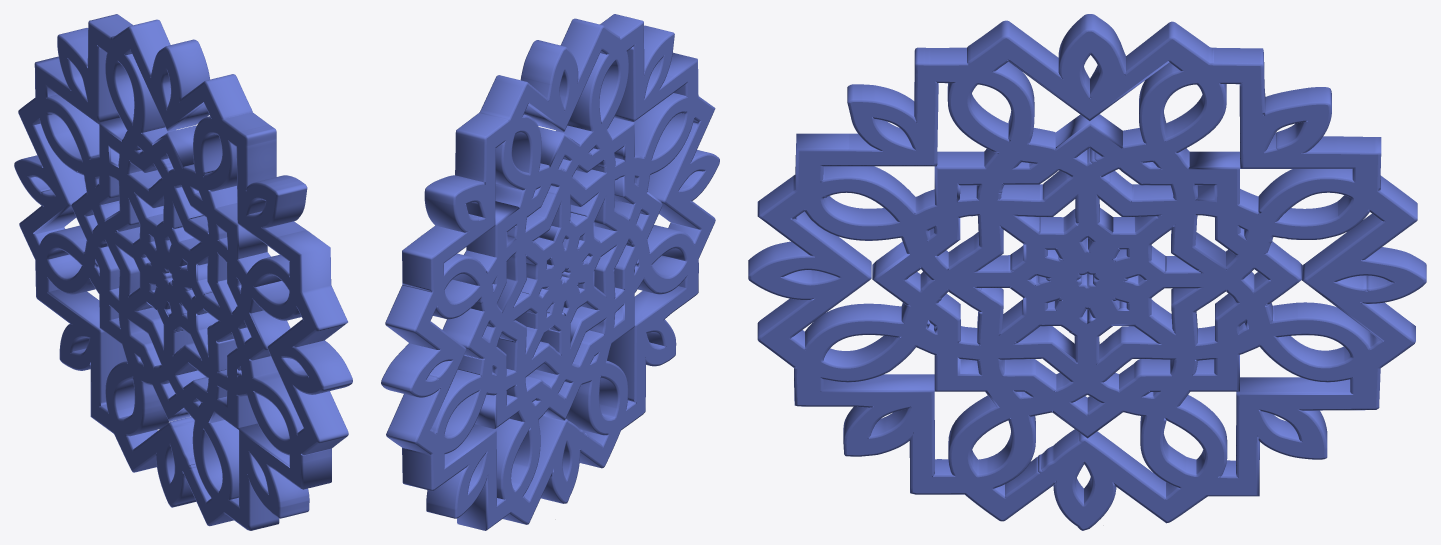
Rendered from panel_AHAA.fbx.
3 renders of one model, left to right at view 1: azimuth 30°, elevation 25°; view 2: azimuth 150°, elevation 25°; view 3: azimuth 270°, elevation 25°, orthographic. The views are drawn at different scales.
Visible parts, largest first — view 1: Curve.007; view 2: Curve.007; view 3: Curve.007.
Part boxes in pixels (x1,y1,x2,y2): Curve.007: (14,14,352,530); Curve.007: (381,14,719,530); Curve.007: (748,14,1426,530).
Size of what is drawn, in the model's own units: 35.85 by 430 by 516.
